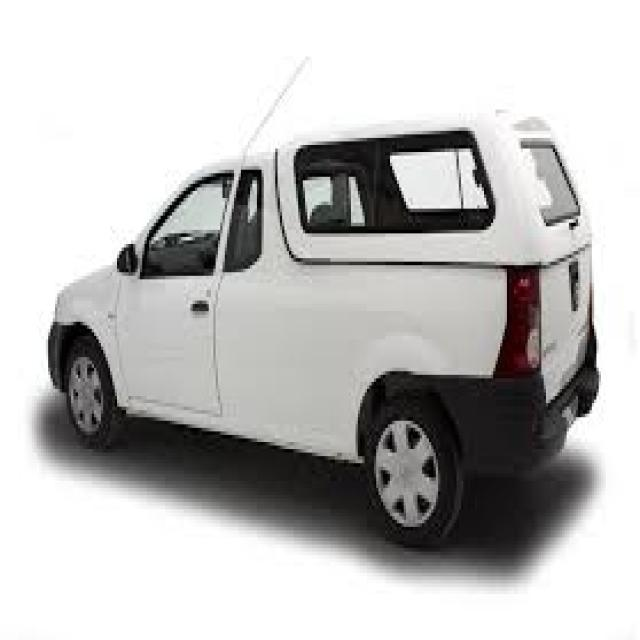Pickup Trucks: (48, 113, 601, 548)
